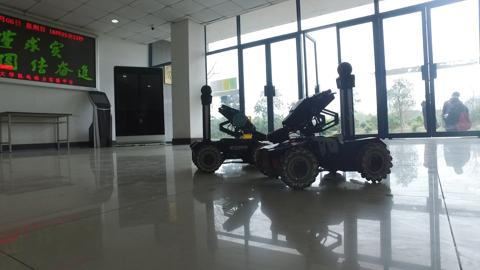chariot: (258, 63, 396, 197), (189, 82, 281, 174)
